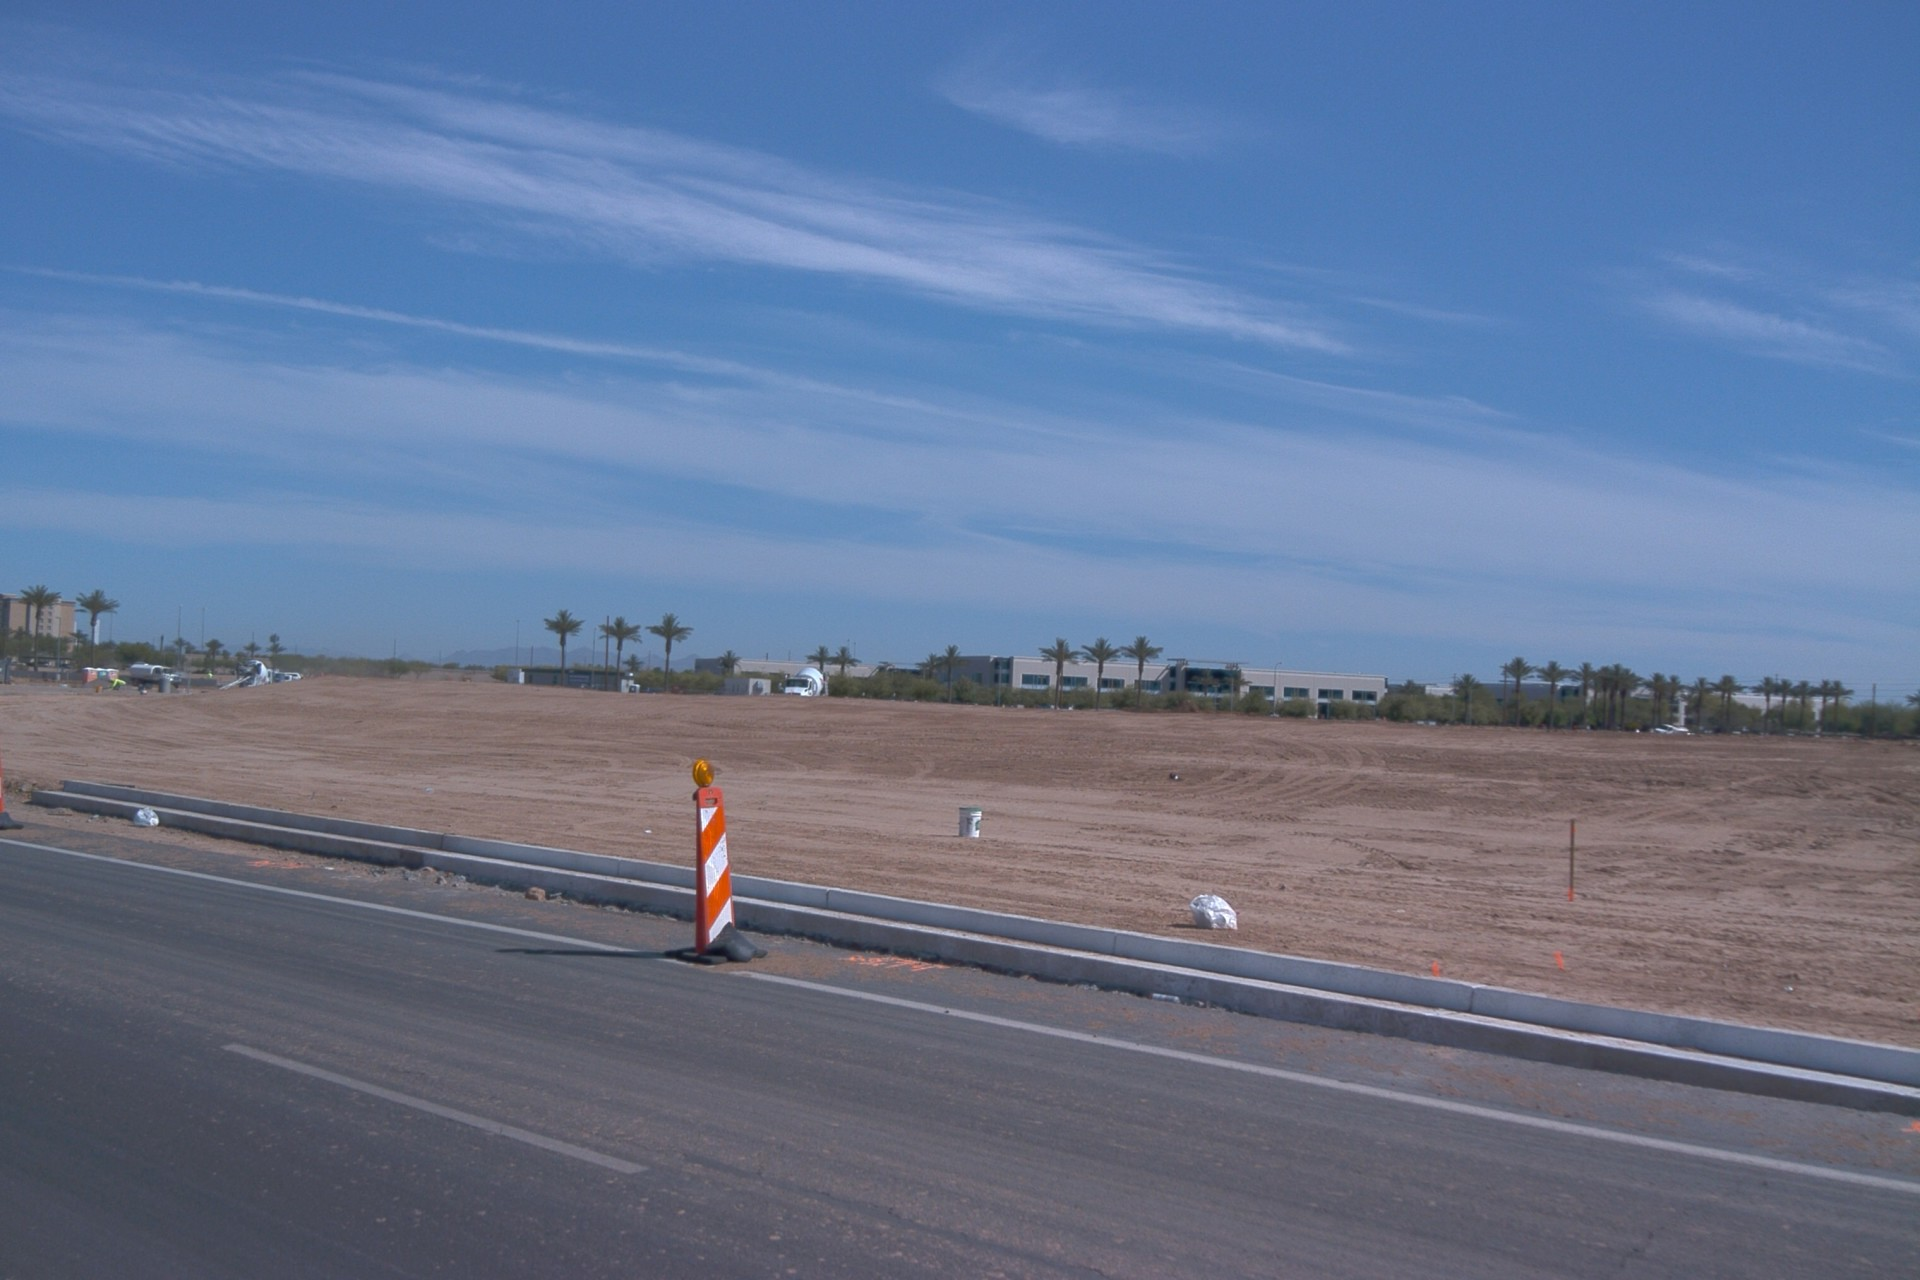TYPE_PEDESTRIAN: (111, 675, 129, 690)
TYPE_VEHICLE: (218, 658, 271, 691), (779, 666, 828, 699), (129, 664, 183, 690), (274, 672, 299, 682)
